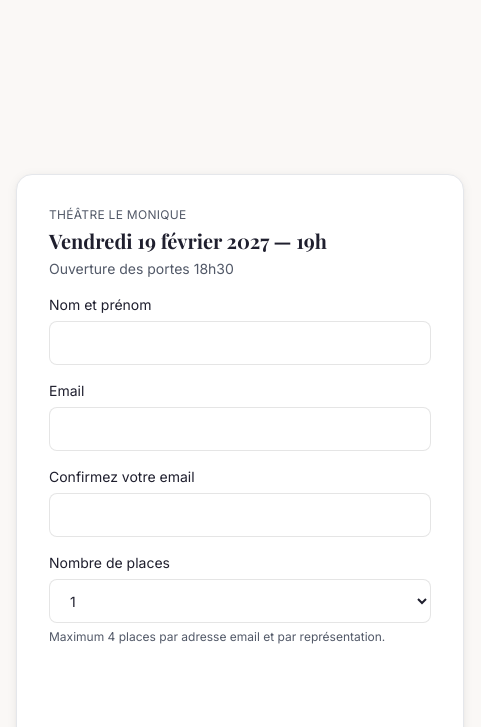
Test: success › a 200 without ok:true is treated as a failure
The image size is (481, 727).
Earlier steps of the test are not shown.
(page scrolled)
Type "Jean Dupont" into the field labelled "Nom et prénom" at point(240, 343), box [49,321,431,365]
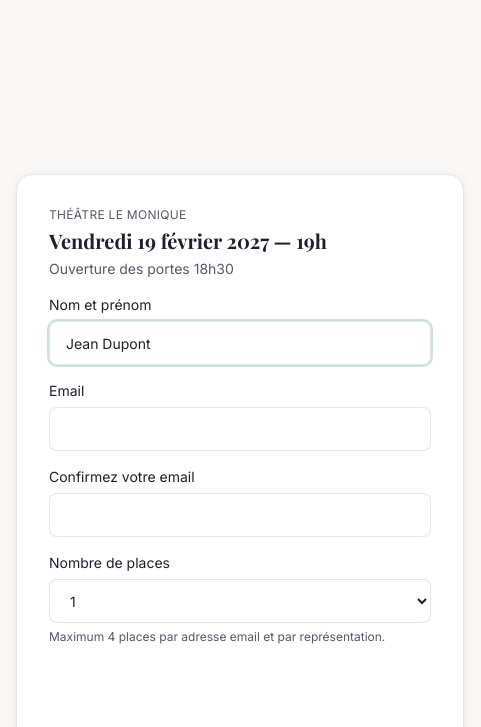
Type "jean@example.com" into the field labelled "Email" at point(240, 429), box [49,407,431,451]
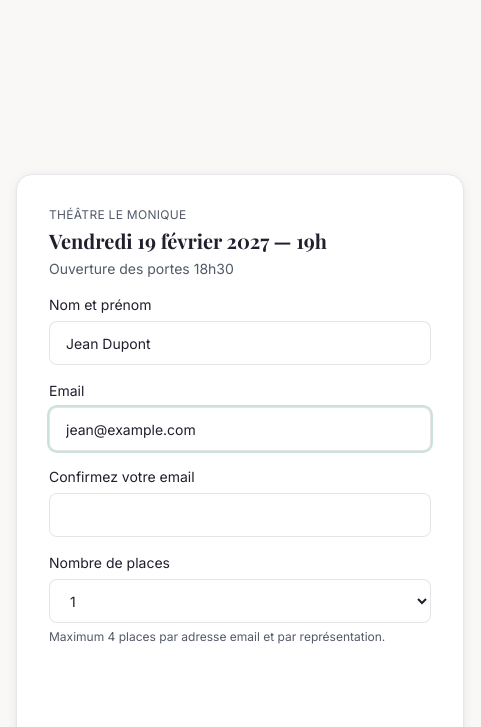
Type "jean@example.com" into the field labelled "Confirmez votre email" at point(240, 515), box [49,493,431,537]
(page scrolled)
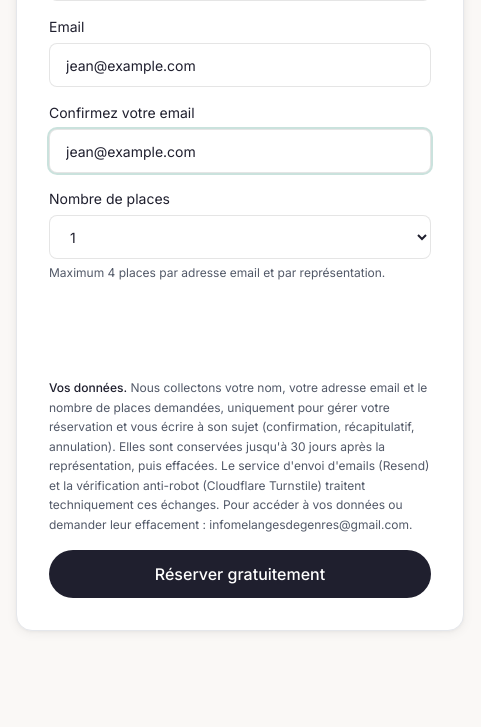
Click the button "Réserver gratuitement" at point(240, 574), box [49,550,431,598]
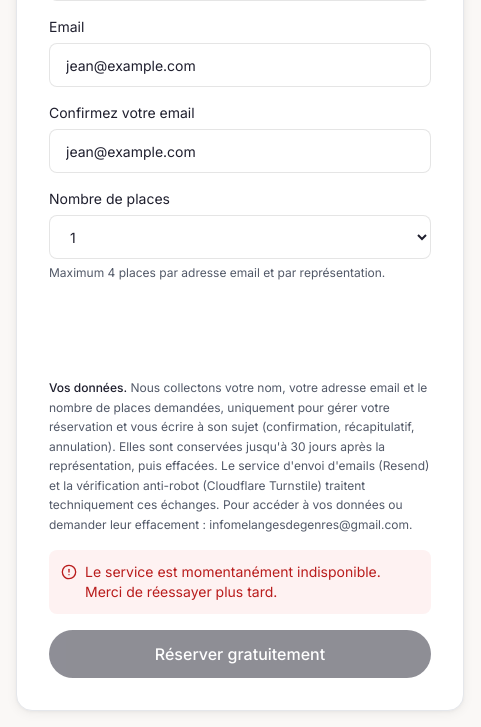
Check: the message reads "Le service est momentanément indisponible. Merci de réessayer plus tard.", box [85,563,381,600]
